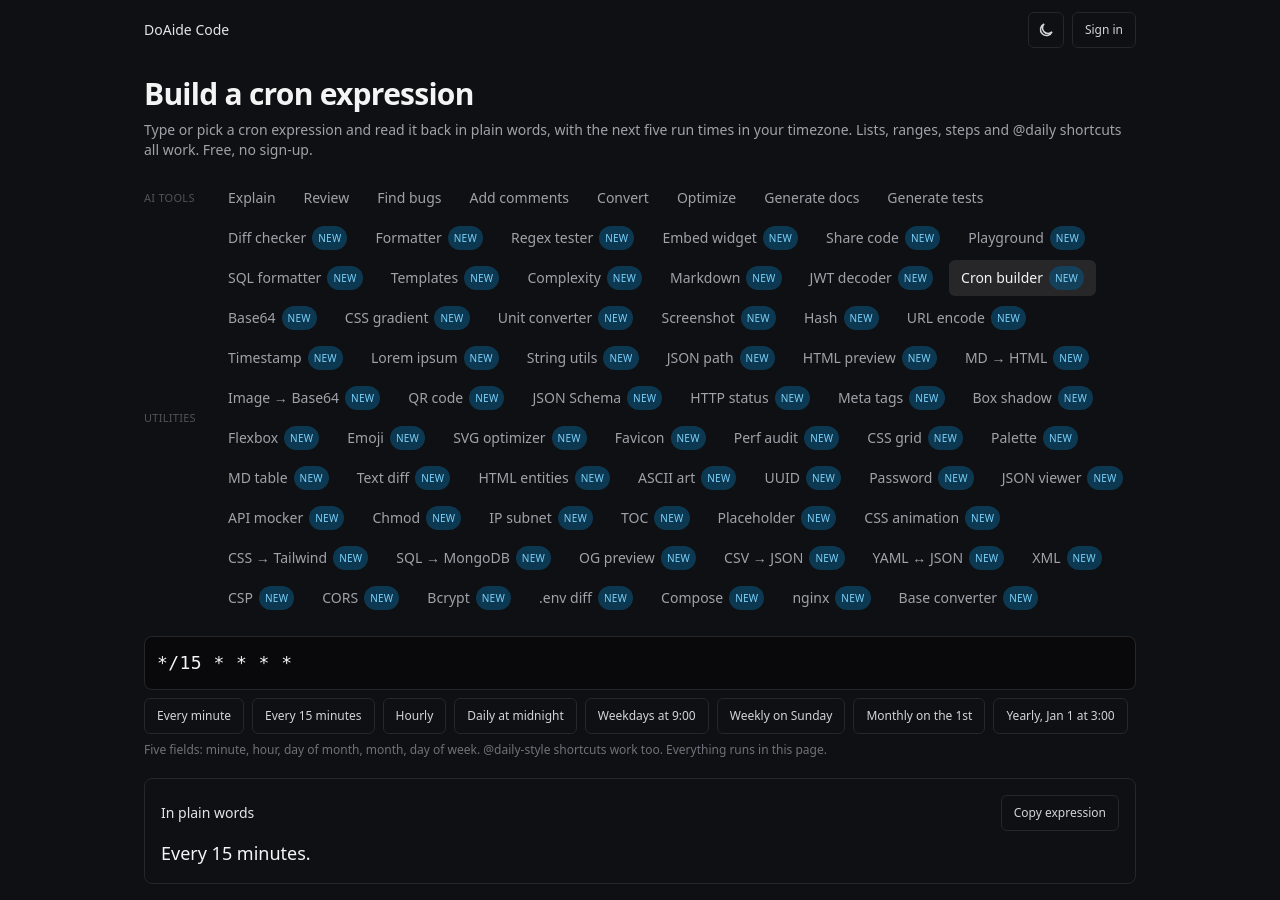
Test: CronPage › shows a clear error for a bad expression
The image size is (1280, 900).
Type "* * *" into the field with test id "cron-in".
click(640, 663); type("* * *")  # box [144, 636, 1136, 690]
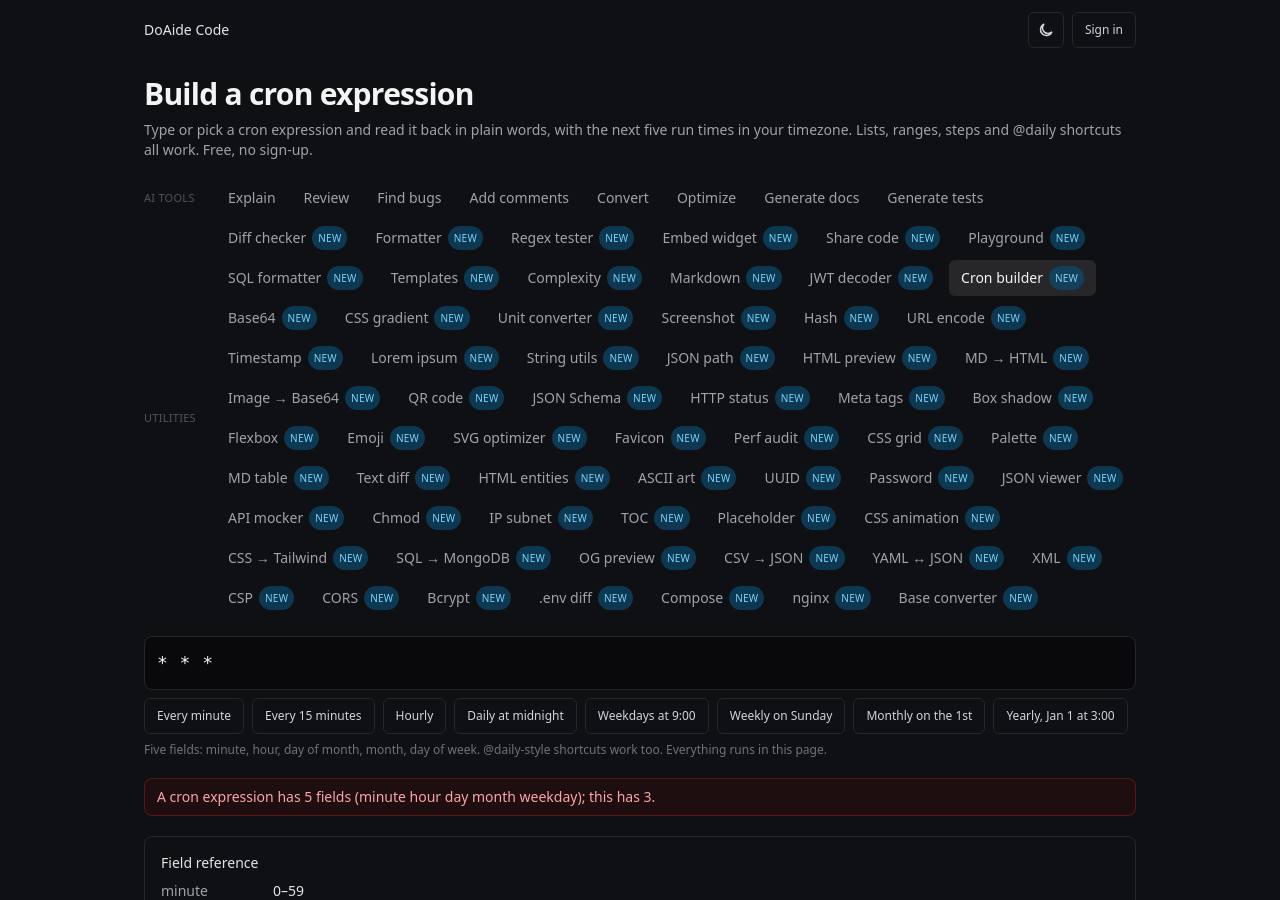
expect the message with test id "cron-error" shows "5 fields": met, box [157, 787, 655, 806]
